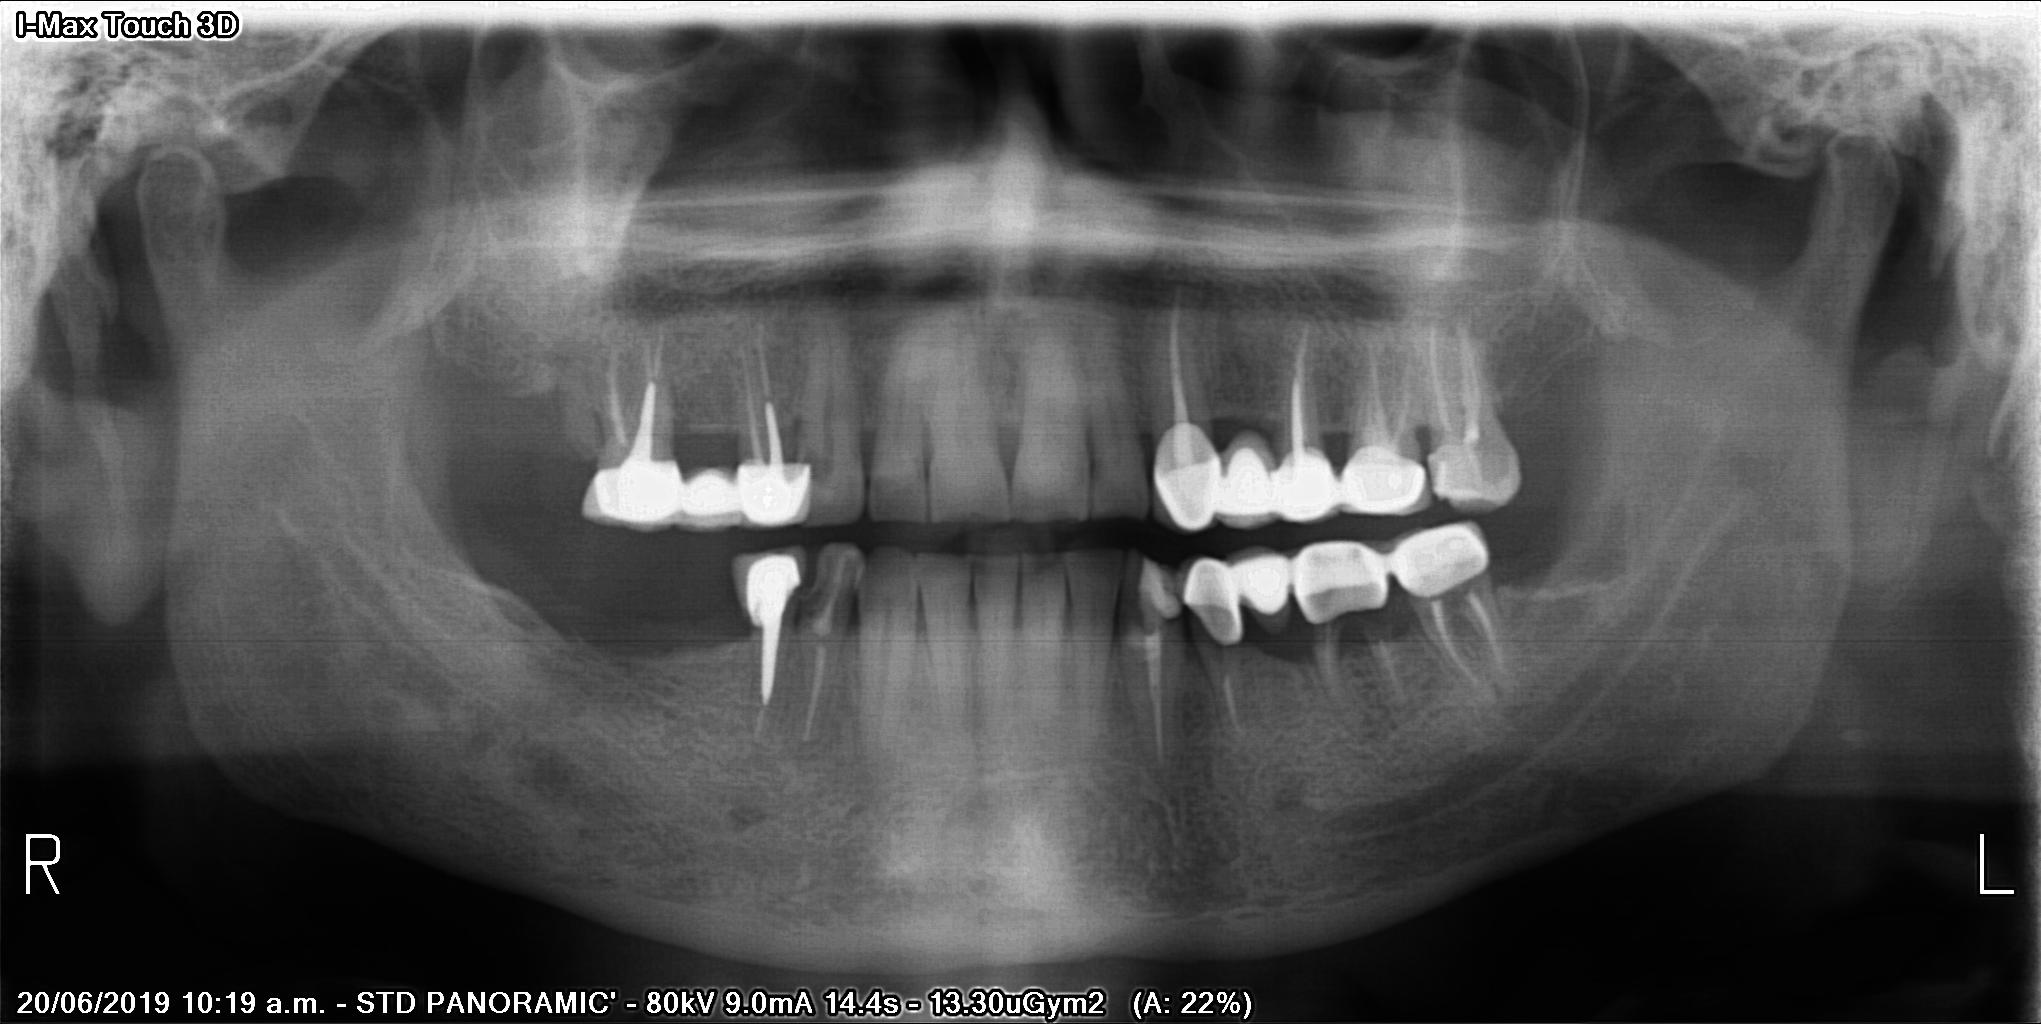Çürük: (588, 374, 691, 528), (1293, 528, 1404, 633), (736, 546, 800, 711), (736, 400, 814, 525), (1144, 414, 1224, 528), (1392, 520, 1500, 596), (1341, 436, 1430, 516), (1180, 550, 1247, 650), (1238, 537, 1301, 631), (1221, 431, 1281, 528), (1272, 431, 1336, 519)
Çürük Bölgesi: (1127, 550, 1152, 636), (800, 554, 824, 619), (798, 453, 837, 488)
